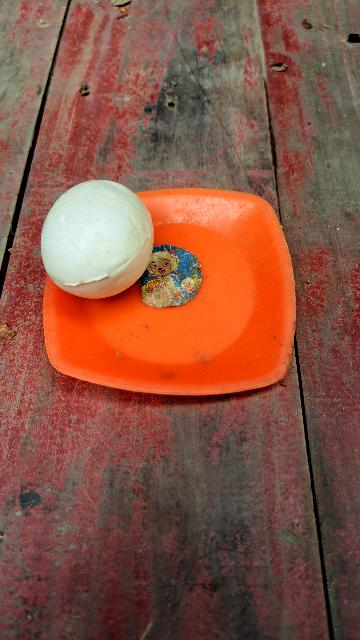hardplastic: (42, 184, 301, 397)
